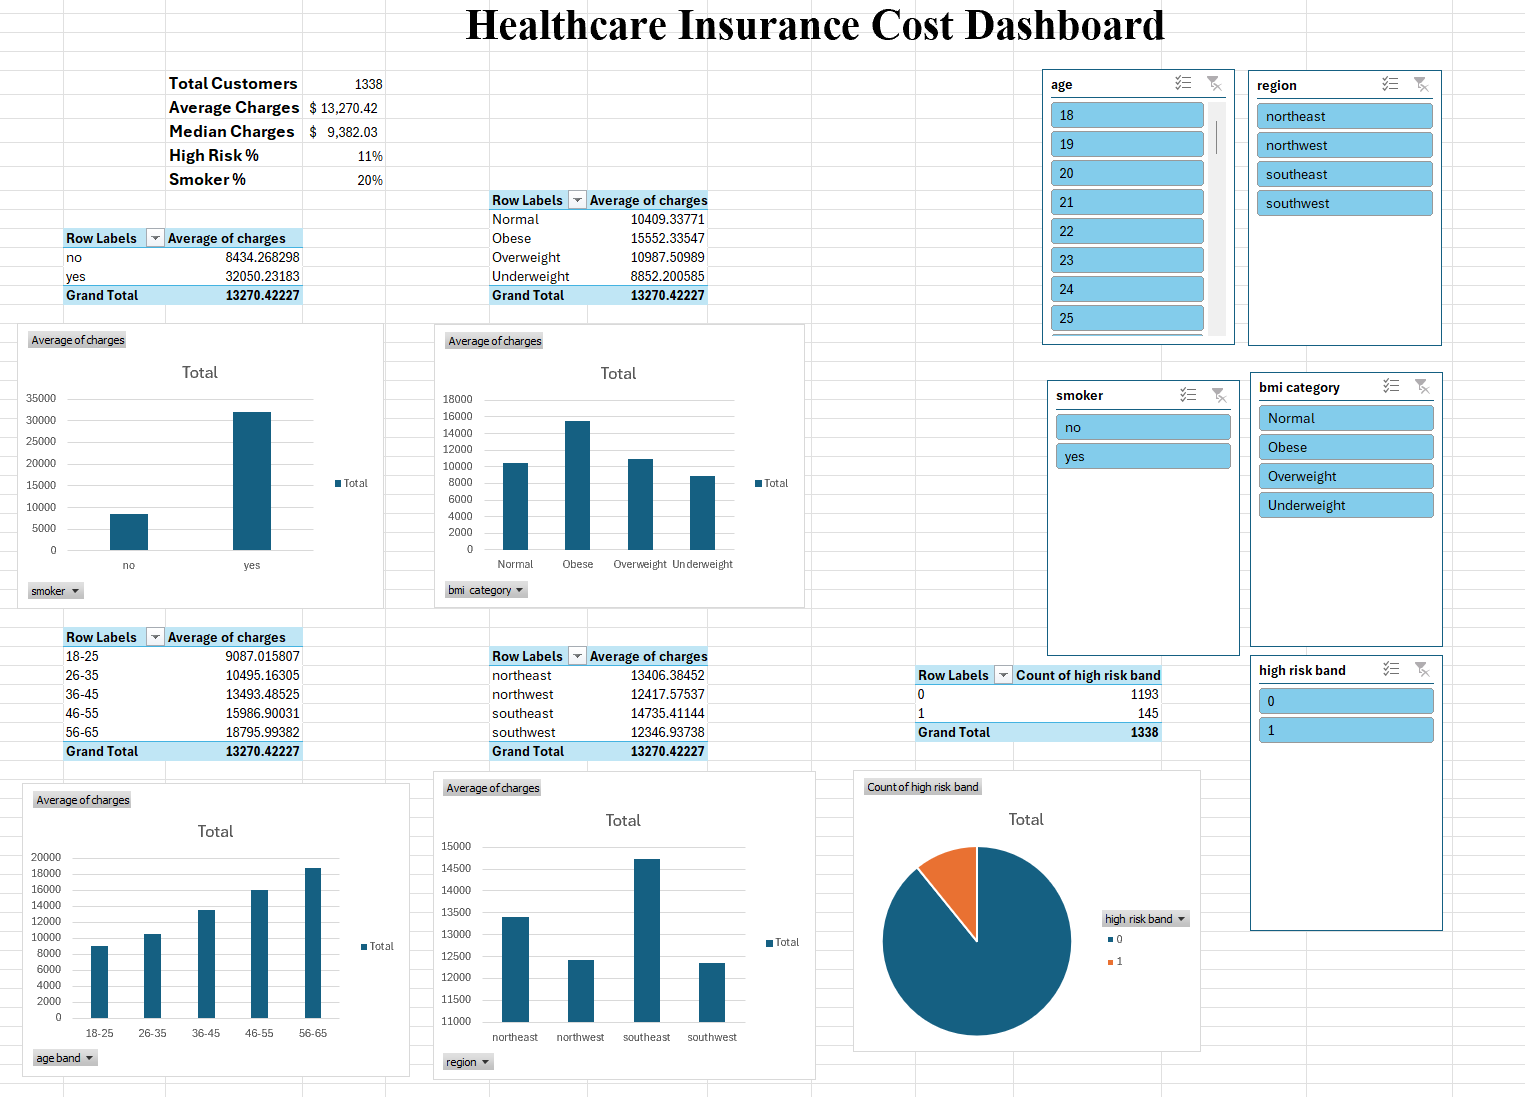

What the dashboard file says about the page in this screenshot:
{"tool":"powerbi","page":{"name":"Page 1","canvas":[1280,720],"ordinal":0},"visuals":[{"type":"card","fields":{"Values":["insurance.Total Customers"]},"box":[12.9,47.1,182.9,101.4],"z":0},{"type":"card","fields":{"Values":["insurance.Average Charges"]},"box":[207.1,47.1,171.4,101.4],"z":1000},{"type":"card","fields":{"Values":["insurance.Median Charges"]},"box":[12.9,158.6,182.9,101.4],"z":2000},{"type":"card","fields":{"Values":["insurance.High Risk %"]},"box":[24.3,271.4,182.9,101.4],"z":3000},{"type":"card","fields":{"Values":["insurance.Smoker %"]},"box":[207.1,158.6,171.4,101.4],"z":4000},{"type":"clusteredBarChart","fields":{"Category":["insurance.smoker"],"Y":["insurance.Average Charges"]},"box":[0,516.2,460,203.8],"z":5000},{"type":"clusteredColumnChart","fields":{"Category":["insurance.BMI Category"],"Y":["insurance.Average Charges"]},"box":[498.8,480,451.2,240],"z":6000},{"type":"clusteredColumnChart","fields":{"Category":["insurance.Age Band"],"Y":["insurance.Average Charges"]},"box":[560,234.3,720,217.1],"z":7000},{"type":"barChart","fields":{"Category":["insurance.region"],"Y":["insurance.Average Charges"]},"box":[225,271.2,311.2,217.5],"z":8000},{"type":"donutChart","fields":{"Y":["Sum(insurance.bmi)","Sum(insurance.charges)"],"Category":["insurance.smoker"]},"box":[989.3,479.4,290.7,241],"z":9000},{"type":"slicer","fields":{"Values":["insurance.region"]},"box":[535.7,47.1,135.7,187.1],"z":10000},{"type":"textbox","box":[0,0,498.6,47.1],"z":11000},{"type":"slicer","fields":{"Values":["insurance.Age Band"]},"box":[695.7,47.1,120,187.1],"z":12000},{"type":"slicer","fields":{"Values":["insurance.BMI Category"]},"box":[838.6,47.1,150,187.1],"z":13000},{"type":"slicer","fields":{"Values":["insurance.sex"]},"box":[1005.7,47.1,110,187.1],"z":14000},{"type":"slicer","fields":{"Values":["insurance.smoker"]},"box":[1130,47.1,124.3,187.1],"z":15000}]}

Visuals, with their boxes on the page's 1280x720 design canvas (x1, y1, x2, y2). These are canvas units, not pixel positions in the 1525x1097 screenshot, which may show the page scaled, cropped or inside an application window:
card - insurance.Total Customers: x1=13, y1=47, x2=196, y2=148
card - insurance.Average Charges: x1=207, y1=47, x2=378, y2=148
card - insurance.Median Charges: x1=13, y1=159, x2=196, y2=260
card - insurance.High Risk %: x1=24, y1=271, x2=207, y2=373
card - insurance.Smoker %: x1=207, y1=159, x2=378, y2=260
clusteredBarChart - insurance.smoker x insurance.Average Charges: x1=0, y1=516, x2=460, y2=720
clusteredColumnChart - insurance.BMI Category x insurance.Average Charges: x1=499, y1=480, x2=950, y2=720
clusteredColumnChart - insurance.Age Band x insurance.Average Charges: x1=560, y1=234, x2=1280, y2=451
barChart - insurance.region x insurance.Average Charges: x1=225, y1=271, x2=536, y2=489
donutChart - Sum(insurance.bmi) x Sum(insurance.charges): x1=989, y1=479, x2=1280, y2=720
slicer - insurance.region: x1=536, y1=47, x2=671, y2=234
textbox: x1=0, y1=0, x2=499, y2=47
slicer - insurance.Age Band: x1=696, y1=47, x2=816, y2=234
slicer - insurance.BMI Category: x1=839, y1=47, x2=989, y2=234
slicer - insurance.sex: x1=1006, y1=47, x2=1116, y2=234
slicer - insurance.smoker: x1=1130, y1=47, x2=1254, y2=234
